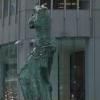Statue: (19, 4, 53, 88)
